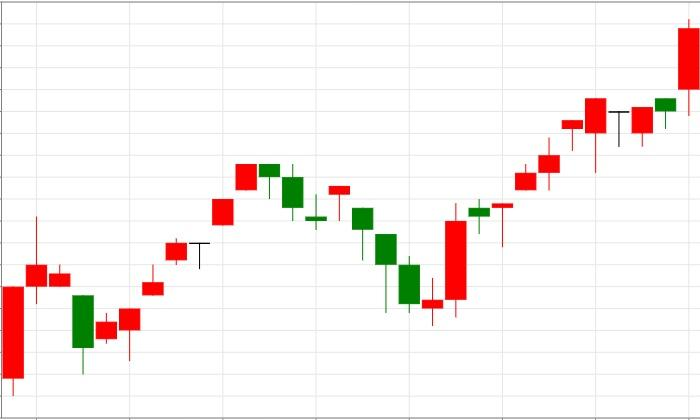morning_star_rise: (259, 164, 467, 326)
